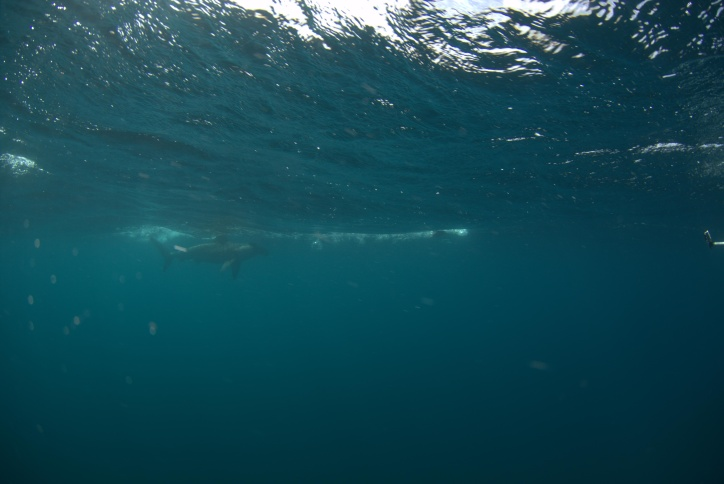Hammer: (129, 216, 284, 302)
